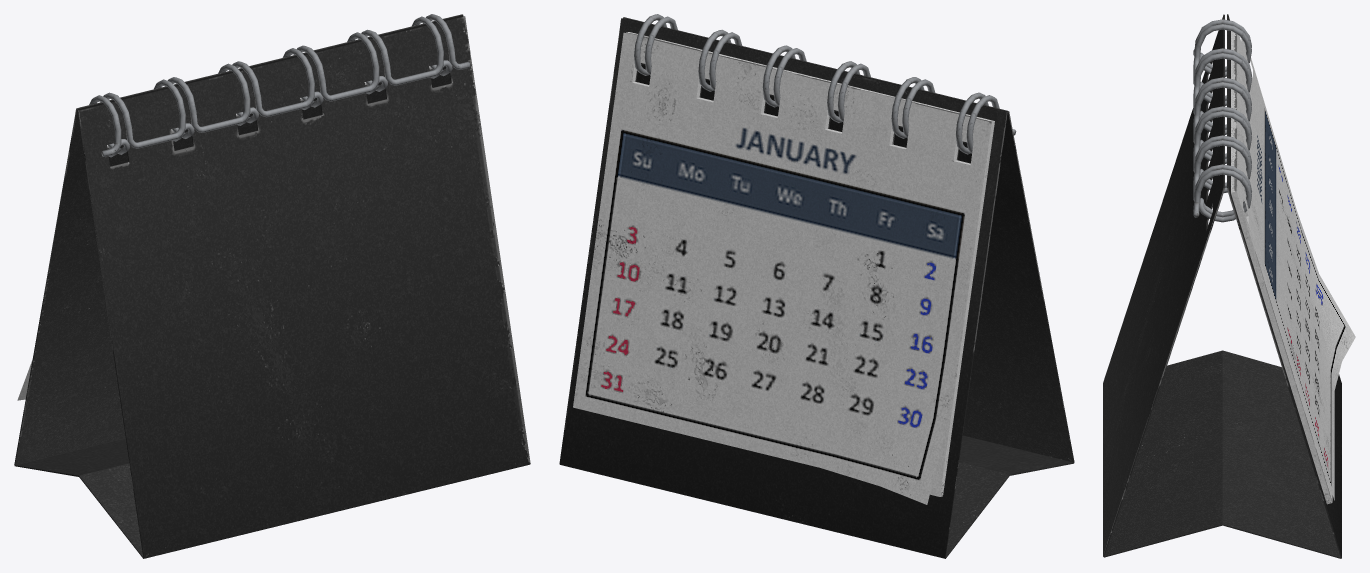
File: SM_Room_DeskCalendar_A_b.fbx
3 renders of one model, left to right at view 1: azimuth 30°, elevation 25°; view 2: azimuth 150°, elevation 25°; view 3: azimuth 270°, elevation 25°, orthographic. The views are drawn at different scales.
Parts seen in each view (by area): view 1: DeskCalendar_b, DeskCalendar_a; view 2: DeskCalendar_c, DeskCalendar_b, DeskCalendar_a, DeskCalendar_d; view 3: DeskCalendar_b, DeskCalendar_c, DeskCalendar_a, DeskCalendar_d.
Part boxes in pixels (left/top/right/bottom): DeskCalendar_b: left=14, top=14, right=530, bottom=558; DeskCalendar_a: left=89, top=14, right=470, bottom=157; DeskCalendar_c: left=573, top=32, right=989, bottom=504; DeskCalendar_b: left=559, top=17, right=1074, bottom=558; DeskCalendar_a: left=634, top=14, right=1016, bottom=154; DeskCalendar_d: left=626, top=32, right=994, bottom=496; DeskCalendar_b: left=1103, top=14, right=1341, bottom=558; DeskCalendar_c: left=1241, top=38, right=1355, bottom=500; DeskCalendar_a: left=1193, top=19, right=1251, bottom=222; DeskCalendar_d: left=1231, top=31, right=1332, bottom=504.
Bounding box in the file's own units: 6 × 6.07 × 3.69.
Materials: 1 (1 with a texture image).
